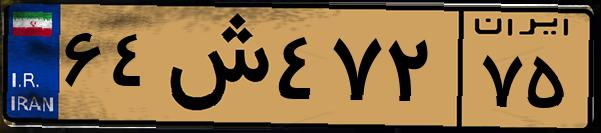2: (385, 28, 445, 110)
4: (270, 28, 330, 110), (110, 28, 158, 98)
5: (525, 38, 570, 115)
6: (57, 26, 110, 100)
7: (330, 28, 385, 110), (475, 38, 525, 113)
ش: (158, 12, 270, 120)
